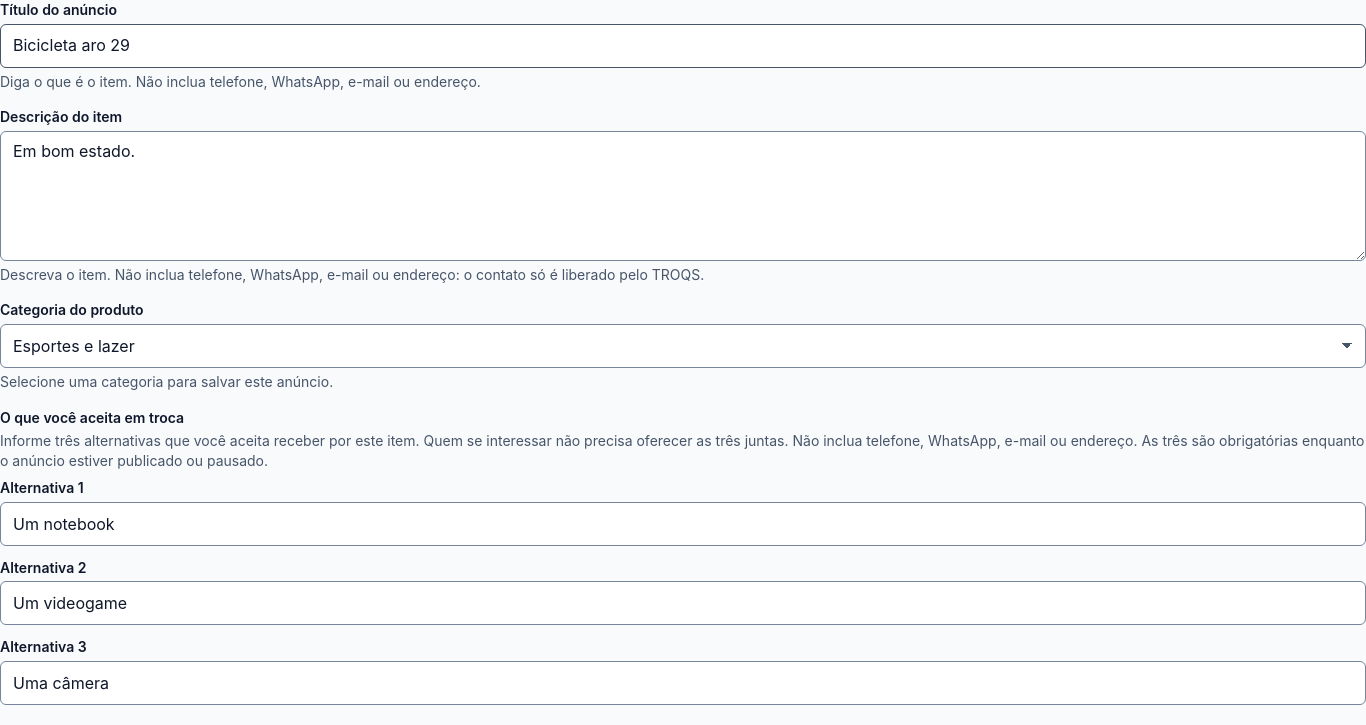
Scenario: ListingForm › erro sem campo vai para o aviso geral, que recebe o foco
Replace the text in the field labelled "Título do anúncio" with "Bicicleta aro 29 revisada" at (683, 46), box [0,24,1365,68]
(page scrolled)
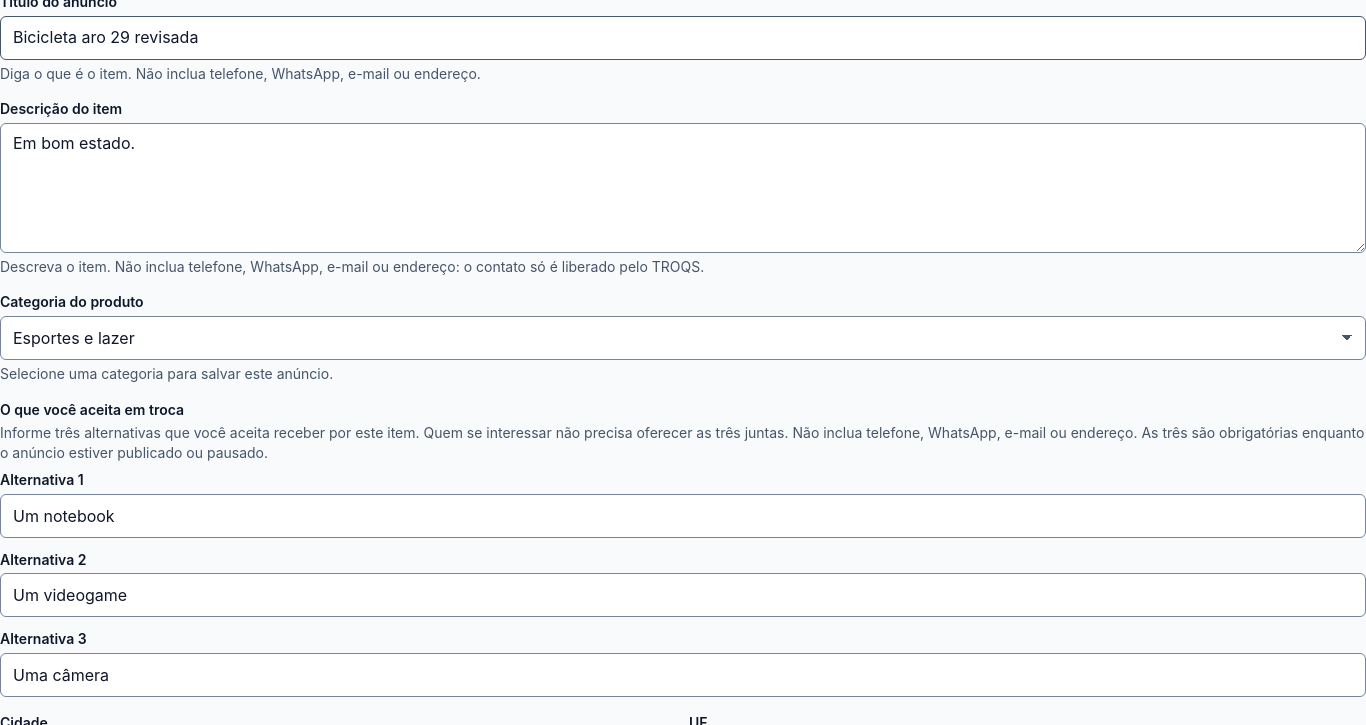
Submit the form named "Cidade"
(page scrolled)
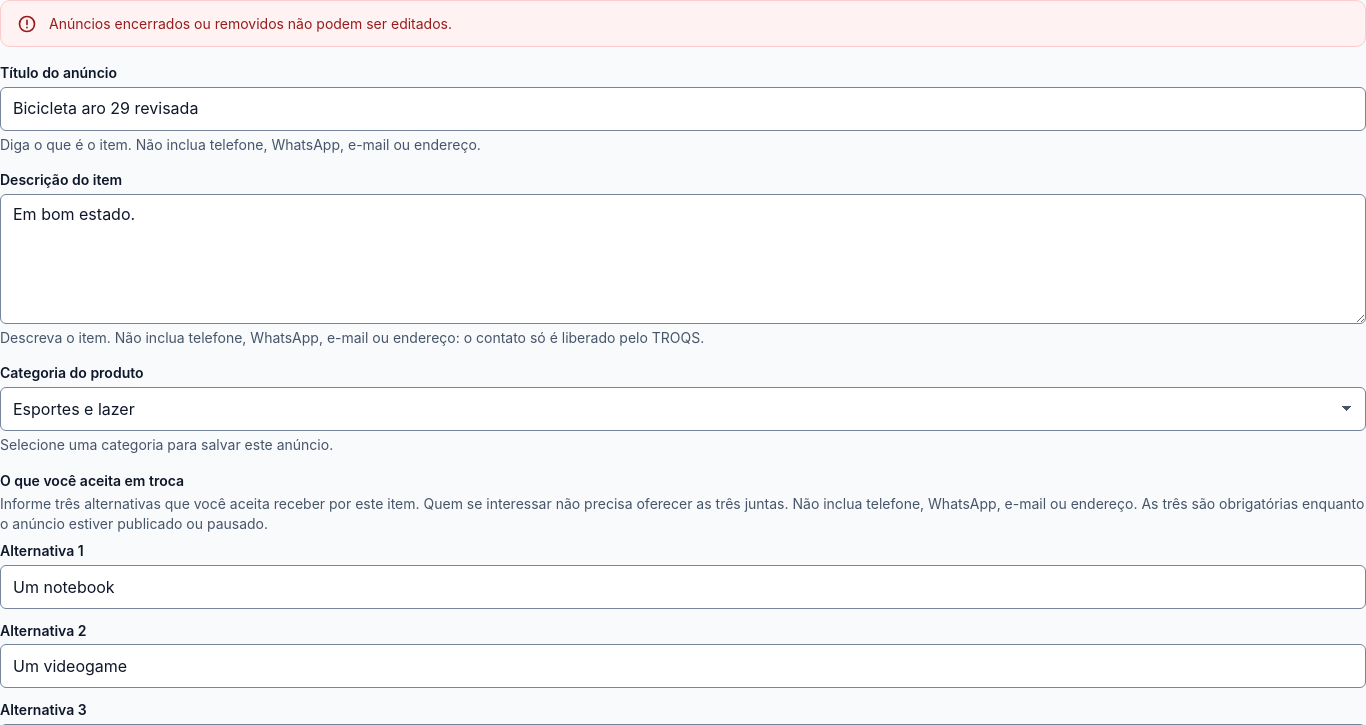
Now the message shows "não podem ser editados", box [49,15,452,32]
